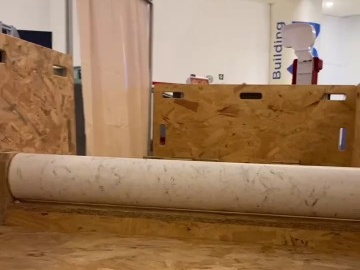curtain: (65, 0, 155, 162)
